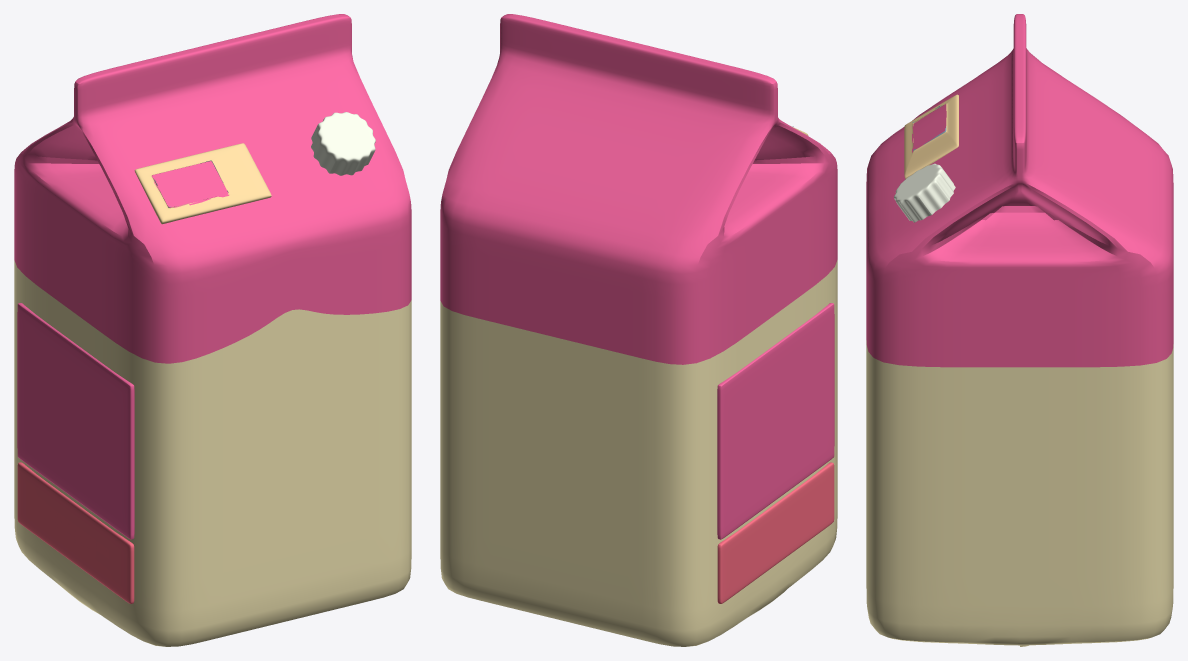
File: milkshake.glb
3 renders of one model, left to right at view 1: azimuth 30°, elevation 25°; view 2: azimuth 150°, elevation 25°; view 3: azimuth 270°, elevation 25°, orthographic. The views are drawn at different scales.
Parts seen in each view (by area): view 1: Caja, Etiqueta_1, Etiqueta_2, Etiqueta_3, Tapa; view 2: Caja, Etiqueta_1, Etiqueta_2; view 3: Caja, Tapa, Etiqueta_3.
Part boxes in pixels (x1,y1,x2,y2): Caja: (14,14,411,646); Etiqueta_1: (17,303,134,539); Etiqueta_2: (17,462,134,603); Etiqueta_3: (134,143,271,224); Tapa: (311,112,375,175); Caja: (440,14,837,646); Etiqueta_1: (717,303,834,539); Etiqueta_2: (717,462,834,603); Caja: (866,14,1173,646); Tapa: (894,163,955,222); Etiqueta_3: (904,94,958,178).
Bounding box in the file's own units: 2.02 × 3.7 × 2.
